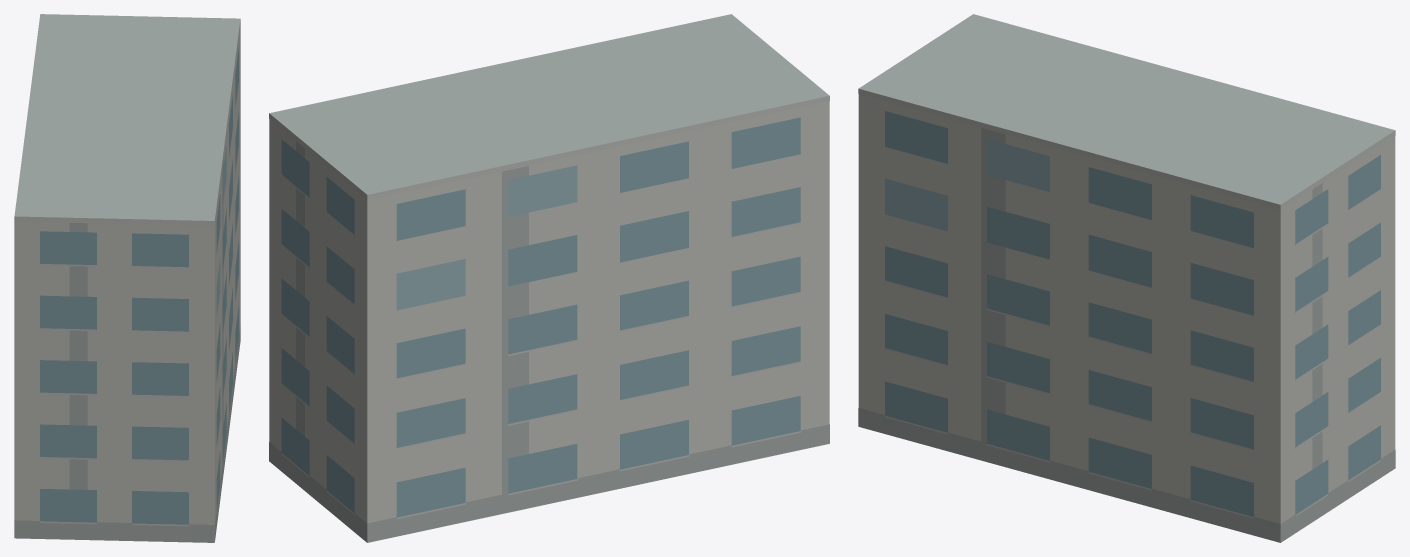
The model's file is residential-e982f599-4a79-43e5-b6cd-052700b0f23d.glb.
3 renders of one model, left to right at view 1: azimuth 30°, elevation 25°; view 2: azimuth 150°, elevation 25°; view 3: azimuth 270°, elevation 25°, orthographic. The views are drawn at different scales.
Visible parts, largest first — view 1: residential-e982f599-4a79-43e5-b6cd-052700b0f23d.tmp; view 2: residential-e982f599-4a79-43e5-b6cd-052700b0f23d.tmp; view 3: residential-e982f599-4a79-43e5-b6cd-052700b0f23d.tmp.
Part boxes in pixels (left/top/right/bottom): residential-e982f599-4a79-43e5-b6cd-052700b0f23d.tmp: left=14, top=14, right=240, bottom=542; residential-e982f599-4a79-43e5-b6cd-052700b0f23d.tmp: left=269, top=14, right=829, bottom=542; residential-e982f599-4a79-43e5-b6cd-052700b0f23d.tmp: left=858, top=14, right=1395, bottom=542.
Bounding box in the file's own units: 18.47 × 15.25 × 21.96.
